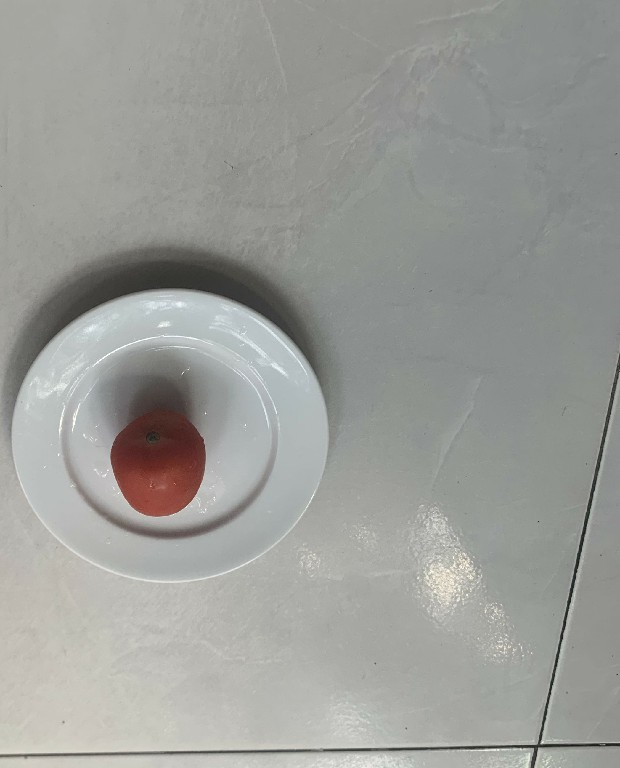OK: (108, 405, 209, 517)
